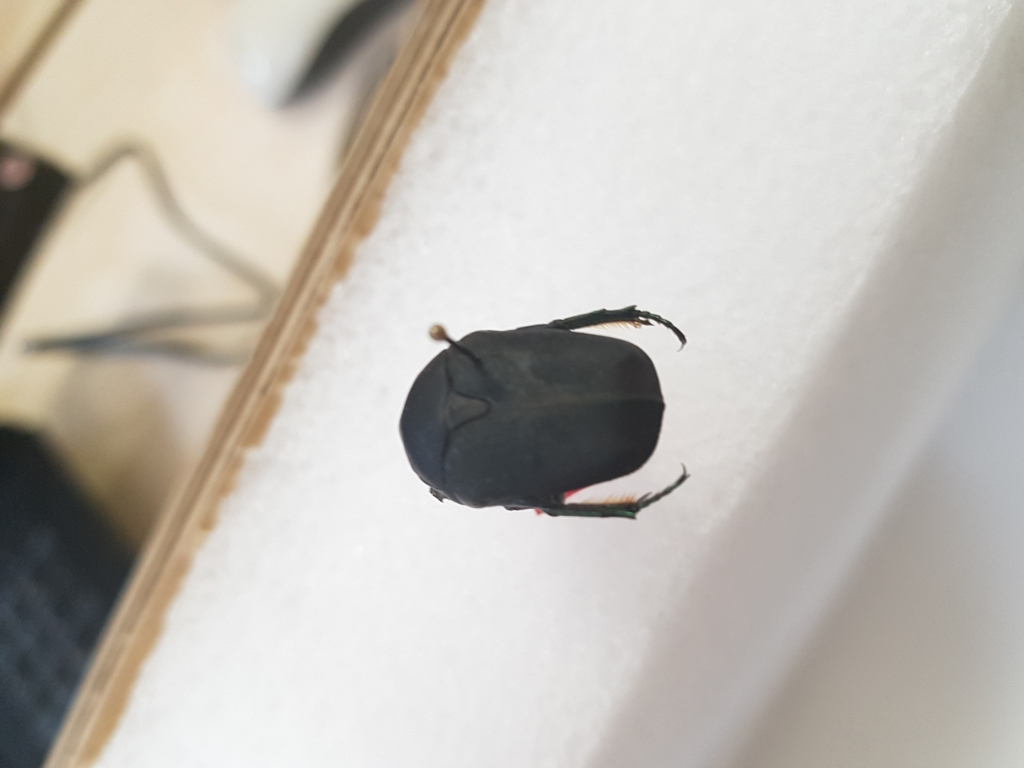Protaetia_afflicta: (394, 299, 699, 524)
